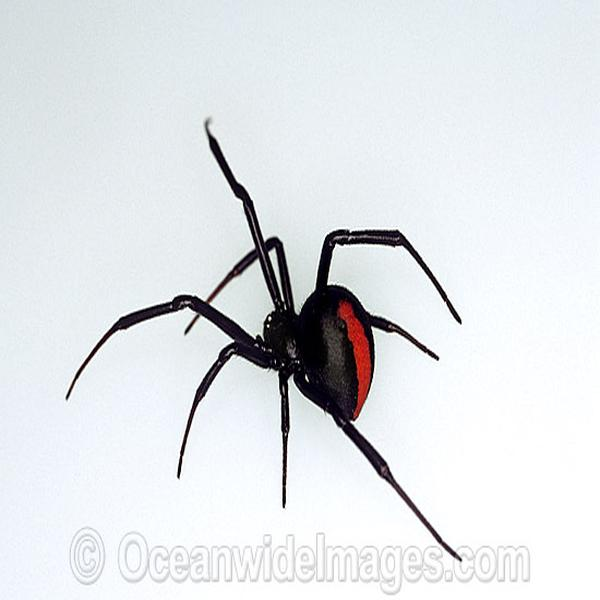Redback Spider: (72, 118, 464, 561)
